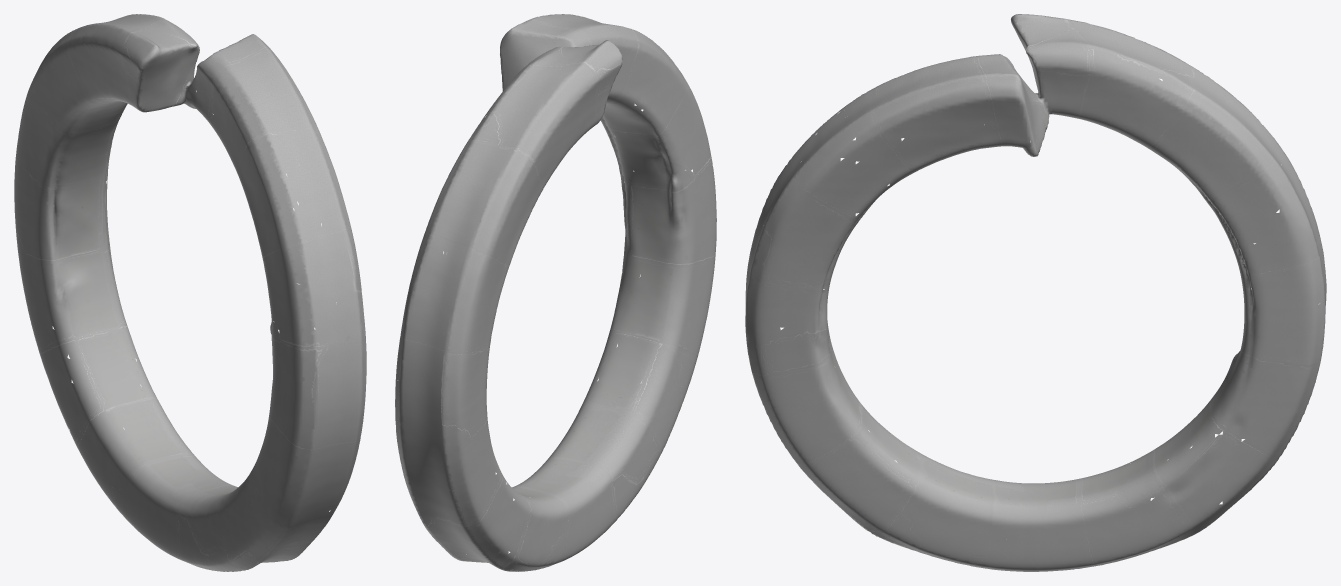
Rendered from spring_washer.glb.
The picture shows the model from 3 angles, left to right: view 1: azimuth 30°, elevation 25°; view 2: azimuth 150°, elevation 25°; view 3: azimuth 270°, elevation 25°; orthographic projection. The views are drawn at different scales.
Parts seen in each view (by area): view 1: tripo_node_57c54c47-455f-4861-b878-3c1dee197e5b; view 2: tripo_node_57c54c47-455f-4861-b878-3c1dee197e5b; view 3: tripo_node_57c54c47-455f-4861-b878-3c1dee197e5b.
Part boxes in pixels (bbox=[...]): tripo_node_57c54c47-455f-4861-b878-3c1dee197e5b: bbox=[14, 14, 366, 571]; tripo_node_57c54c47-455f-4861-b878-3c1dee197e5b: bbox=[395, 14, 716, 571]; tripo_node_57c54c47-455f-4861-b878-3c1dee197e5b: bbox=[745, 14, 1326, 571].
Bounding box in the file's own units: 0.2502 × 0.9978 × 0.9991.
1 material, 1 textured.
